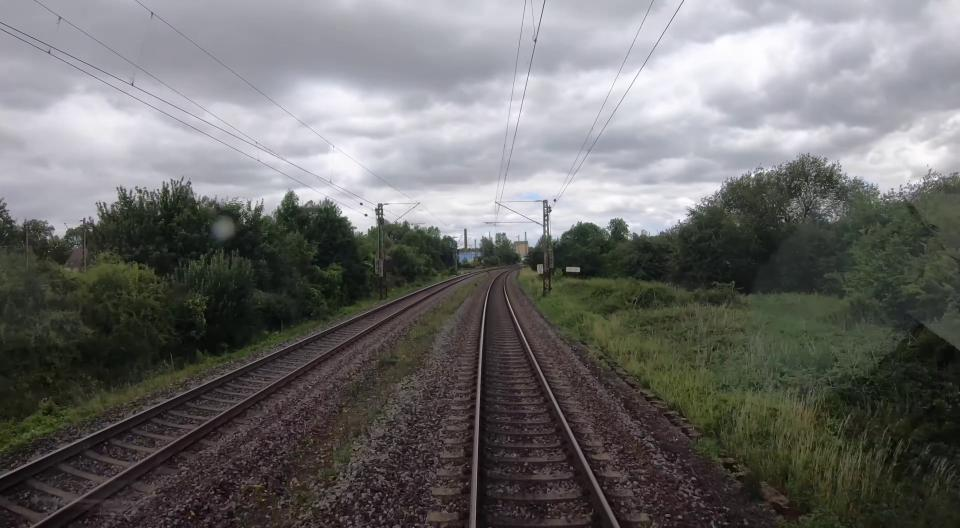Plant: (343, 280, 482, 432), (324, 439, 350, 481), (688, 438, 720, 462), (295, 435, 313, 458)
